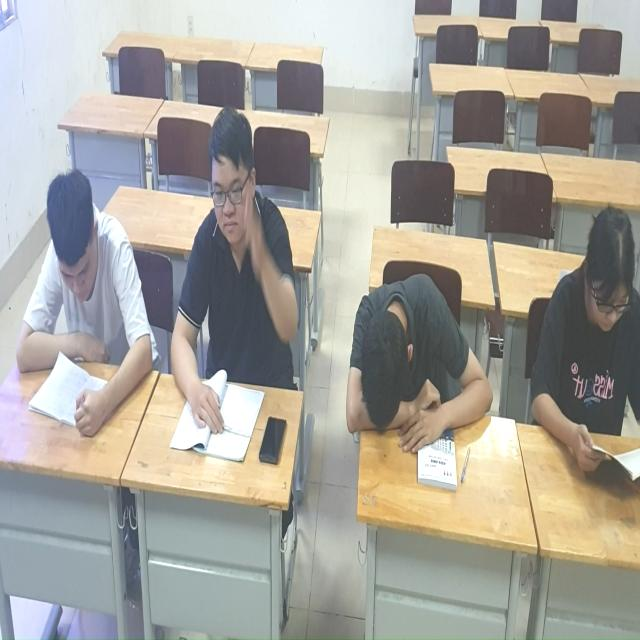raise_hand: (171, 112, 297, 456)
read: (7, 156, 156, 438), (514, 204, 640, 502)
sleep: (346, 269, 503, 468)
